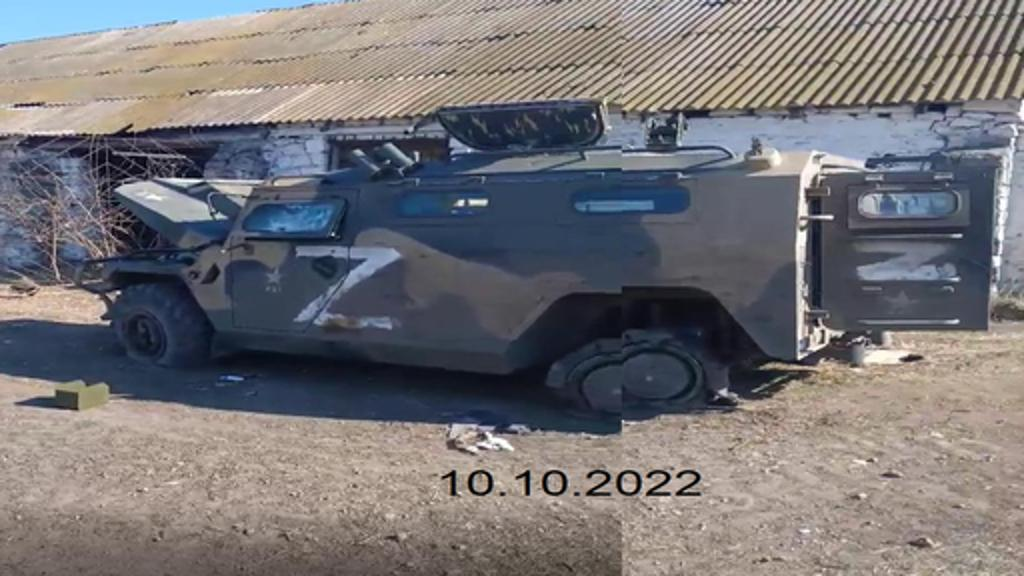CAR: (102, 116, 890, 400)
